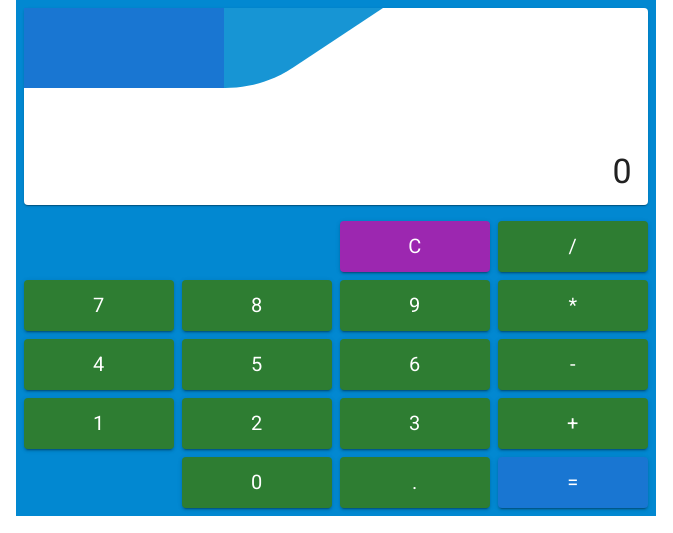
Test: <Calculator /> › displays '12 + 3' when user pressed '1' '2' and '+' and '3' buttons
Step 1. Click the button "1" → coordinates (99, 424), box [24,398,174,449]
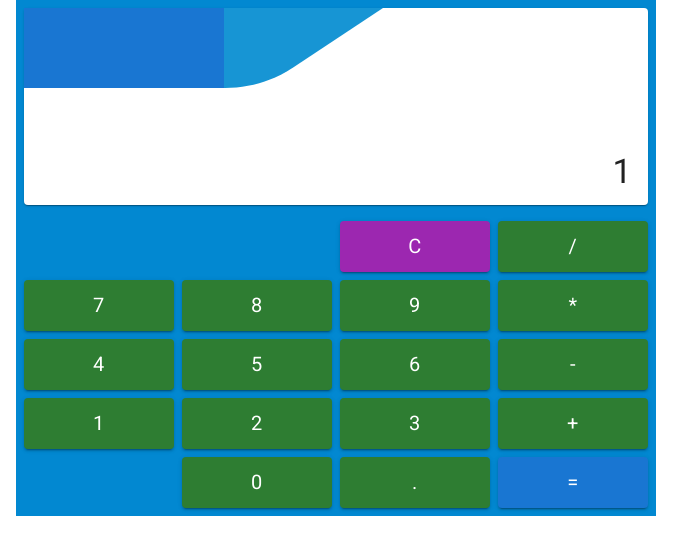
Step 2. Click the button "2" → coordinates (257, 424), box [182,398,332,449]
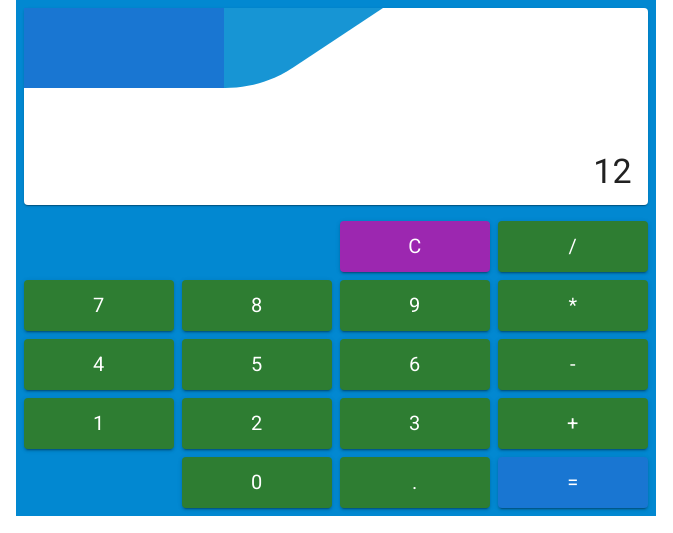
Step 3. Click the button "+" → coordinates (573, 424), box [498,398,648,449]
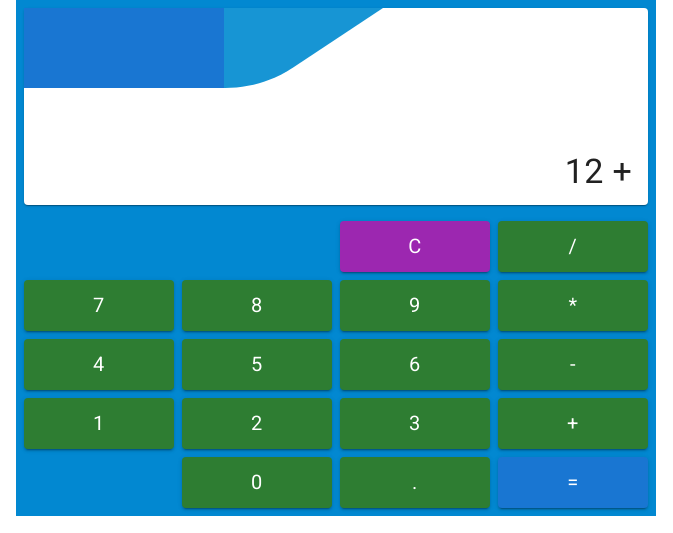
Step 4. Click the button "3" → coordinates (415, 424), box [340,398,490,449]
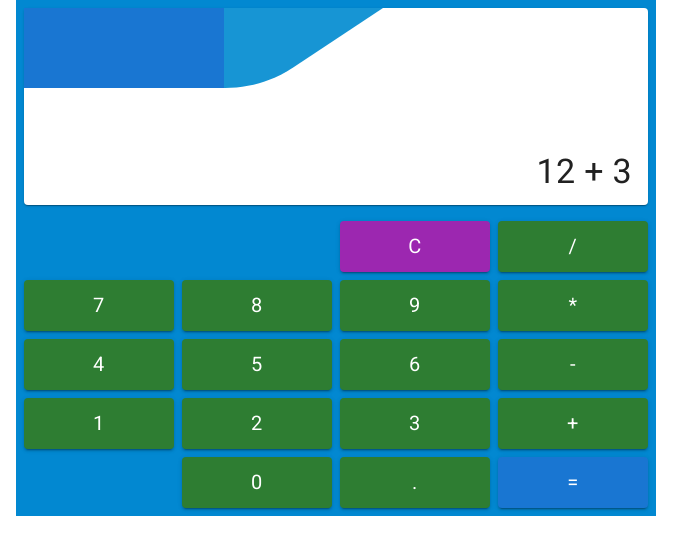
Expected: the text "12 + 3" is shown, [537,151,632,191]
